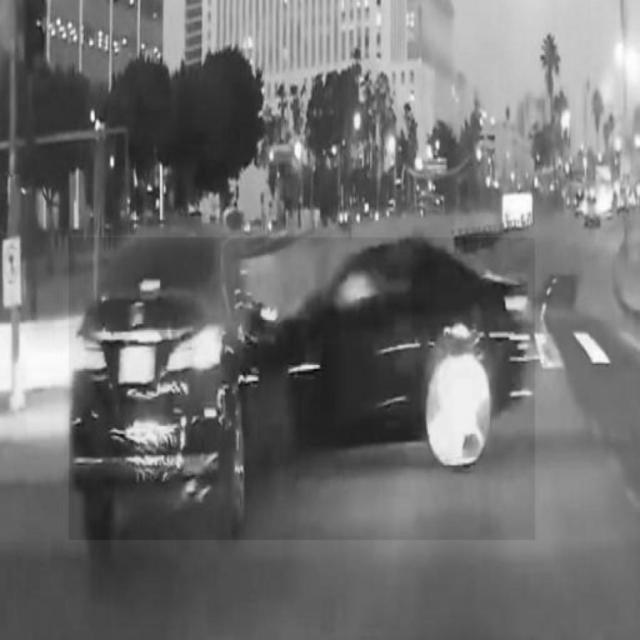accident: (69, 238, 535, 540)
